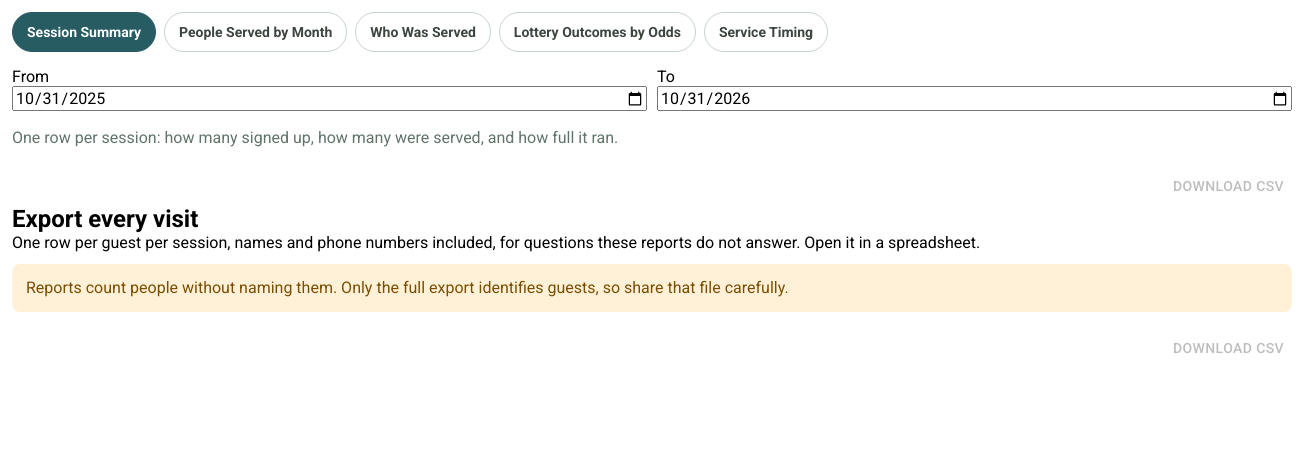
Test: ReportsView › ignores a slow answer that a newer range has already replaced
The width and height of the screenshot is (1304, 452).
Step 1. Type "2026-01-01" into the date field labelled "From" → (330, 98), box top-left (12, 86), bottom-right (647, 111)
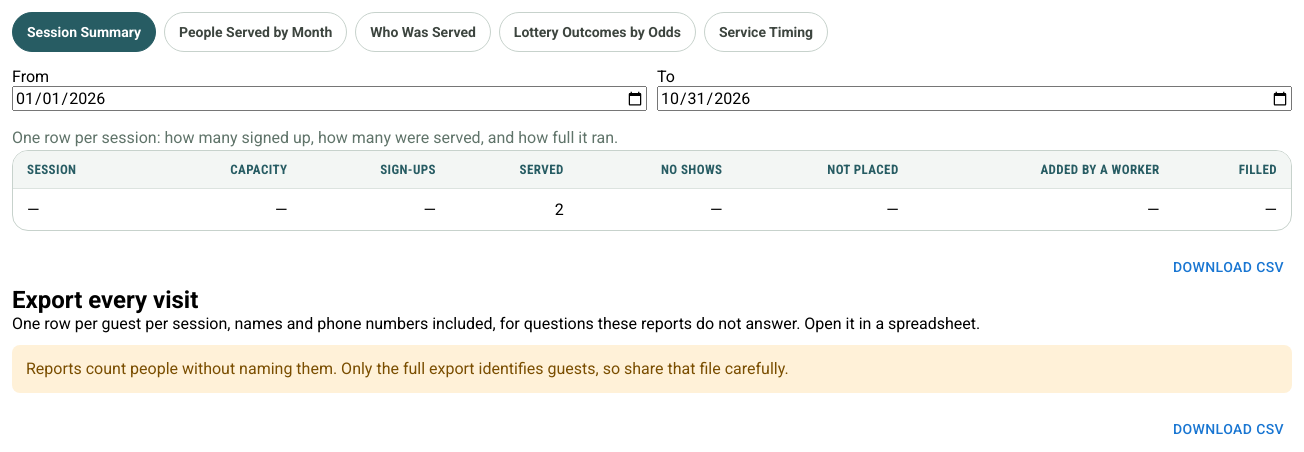
Result: the text "2" is shown at top-left (450, 188), bottom-right (578, 230)
